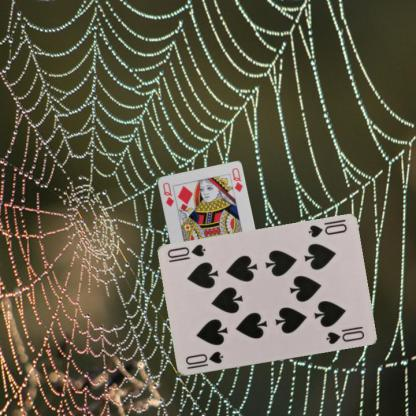10s: (183, 349, 224, 371), (305, 221, 348, 239)
Qd: (160, 180, 175, 208)
